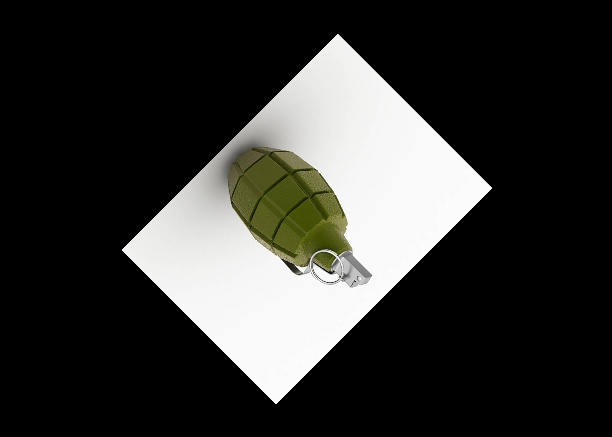e1: (225, 145, 371, 290)
